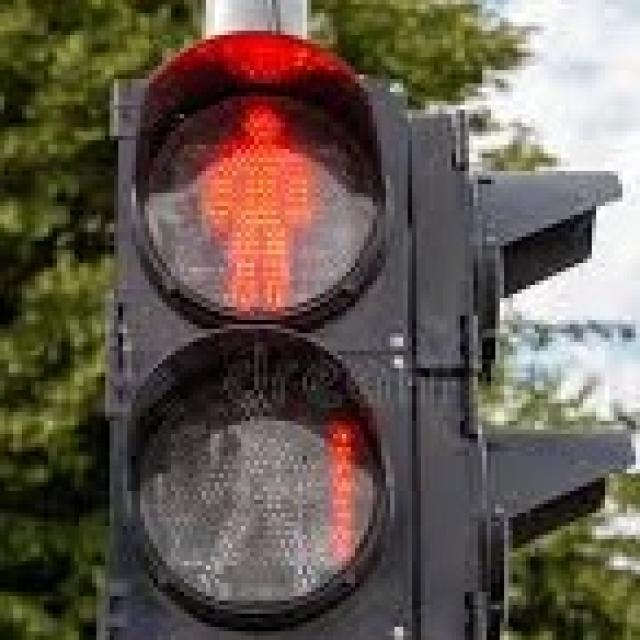red-crossing: (170, 79, 324, 316)
